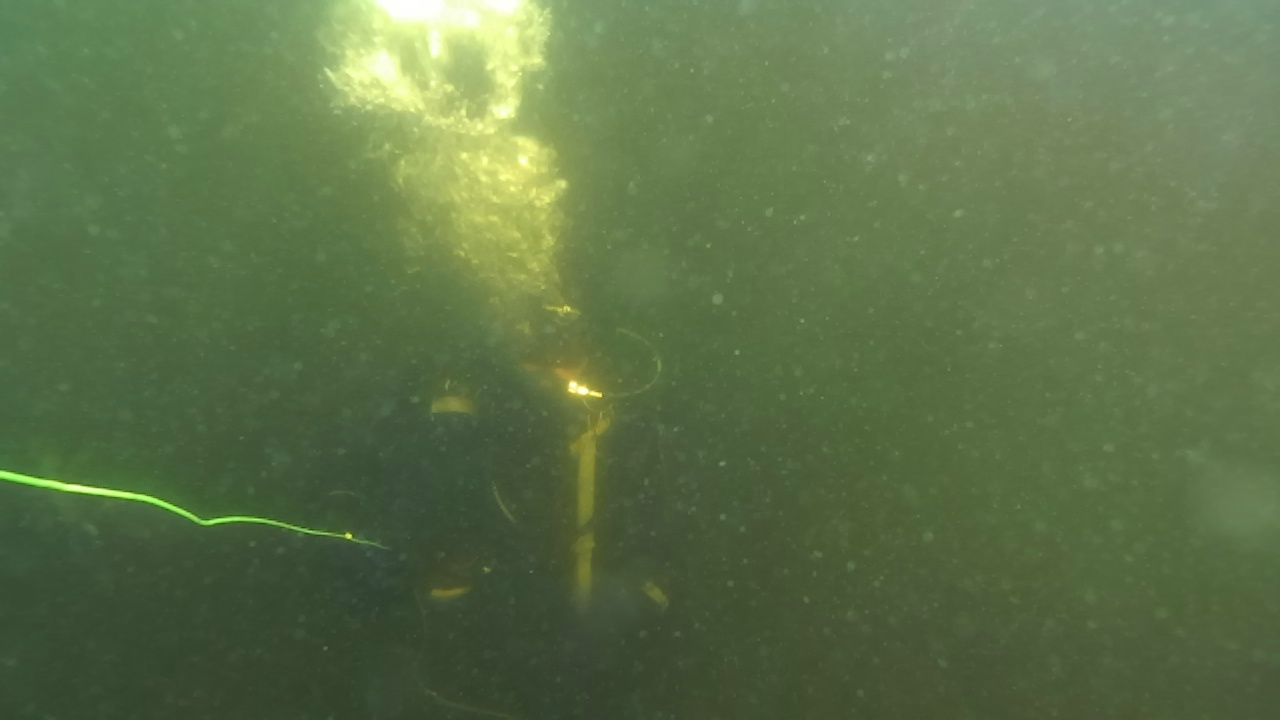Head: (476, 266, 598, 412)
